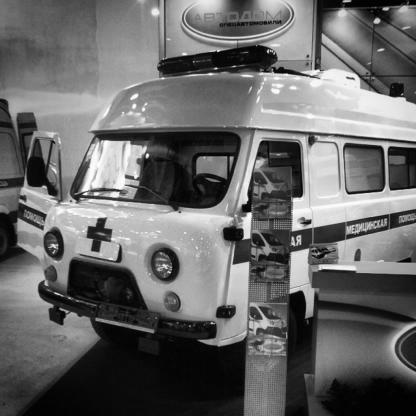ambulance: (36, 46, 416, 372)
